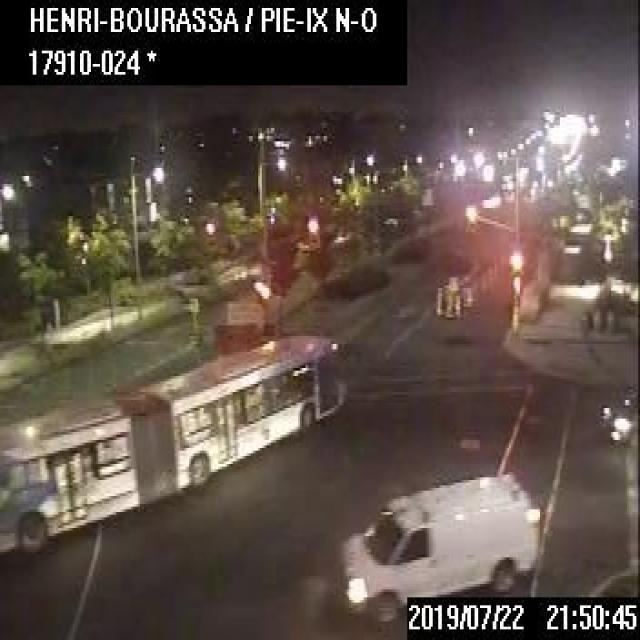bus: (0, 328, 344, 552)
construction: (443, 285, 452, 316), (434, 285, 442, 312), (454, 291, 462, 316)
vehicle: (338, 469, 540, 627), (595, 387, 638, 448)
